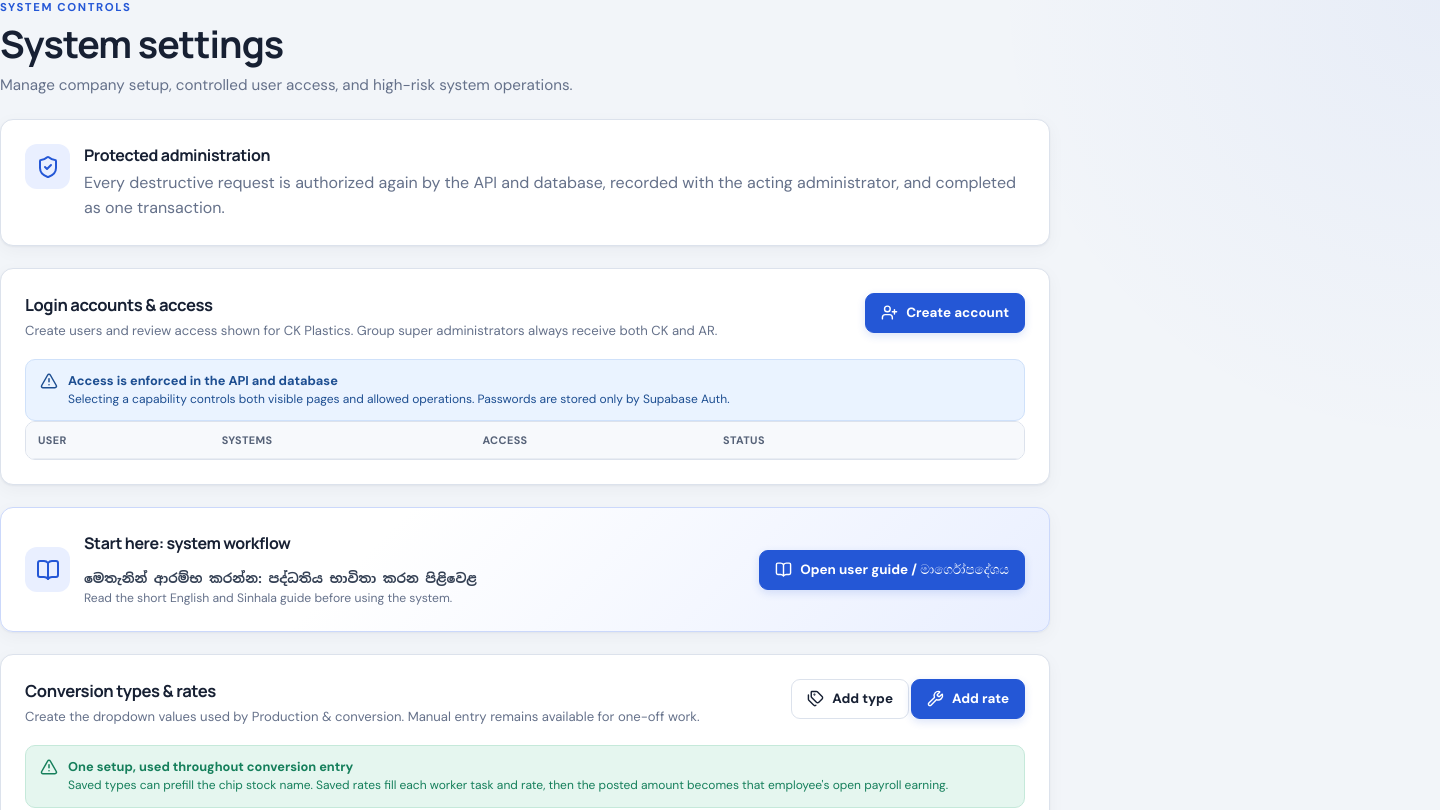
super-admin settings › validates account details and keeps actionable server errors in the dialog
The width and height of the screenshot is (1440, 810).
Click the button "Create account" at (945, 313), box [865,293,1025,333]
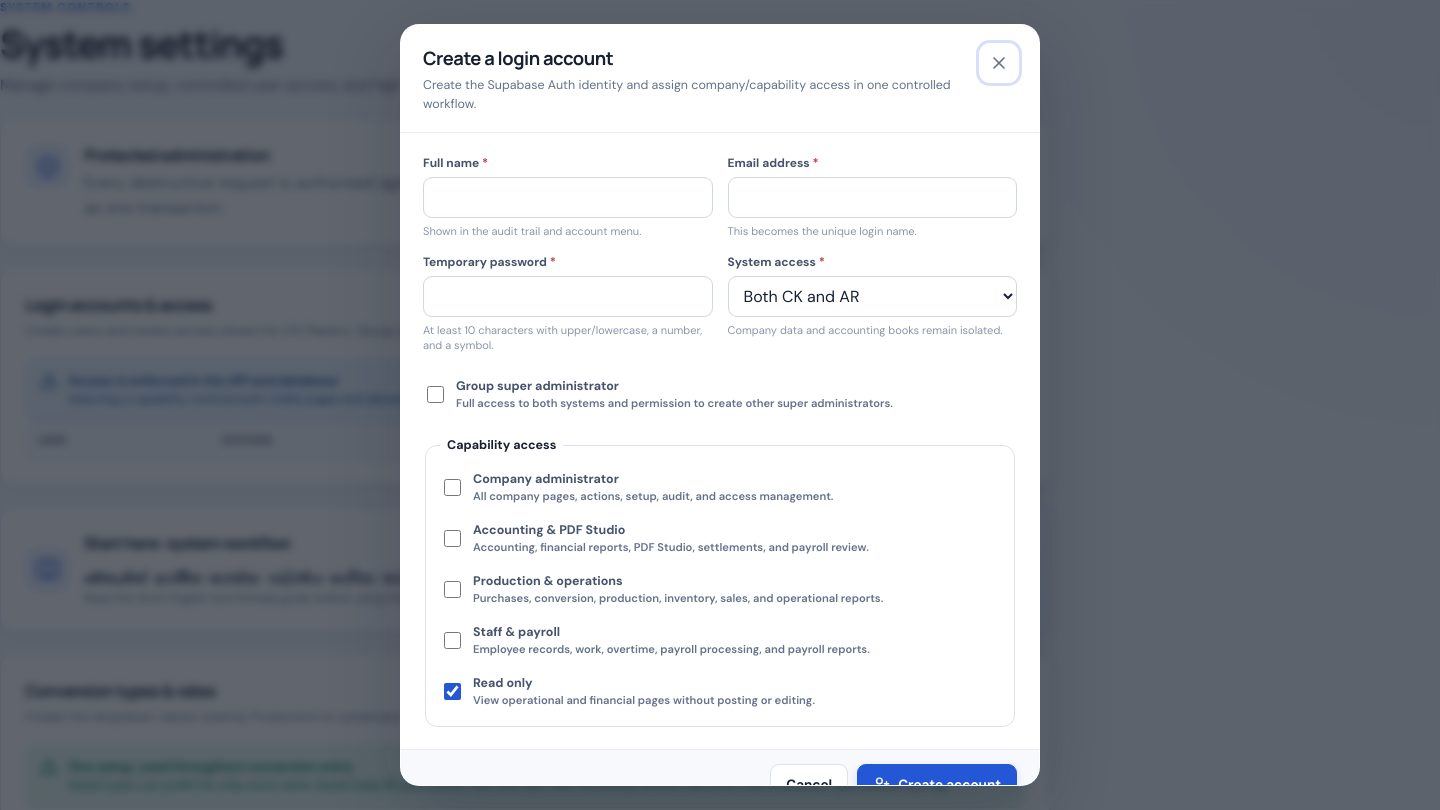
Click the button "Create account" at (937, 784), box [857,764,1017,804]
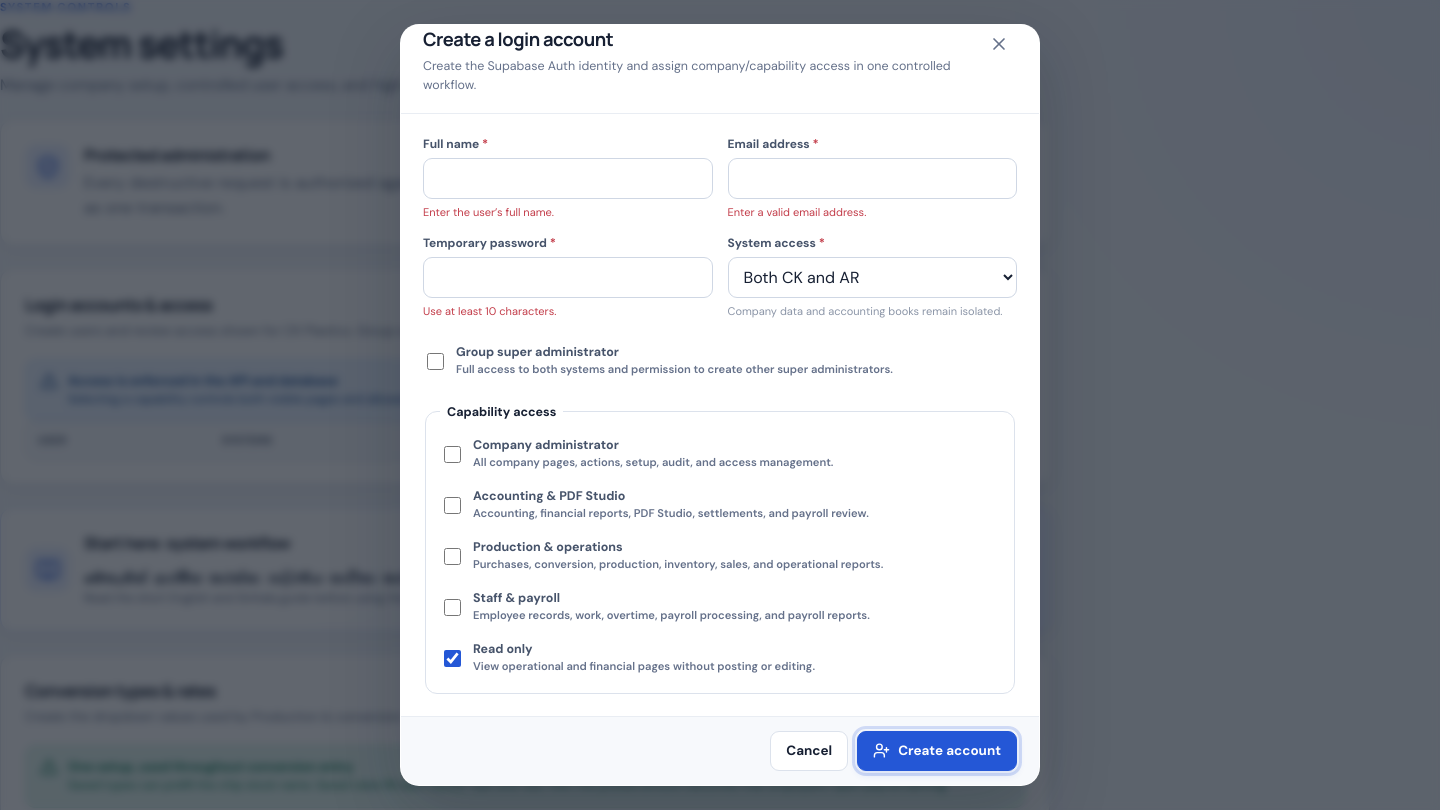
Now the text "Enter the user’s full name." is shown, box [423,205,554,219]
Now the text "Enter a valid email address." is shown, box [728,205,866,219]
Now the text "Use at least 10 characters." is shown, box [423,304,556,318]
Type "  New User  " into the field labelled "Full name * Enter the user’s full name." at (568, 178), box [423,158,712,199]
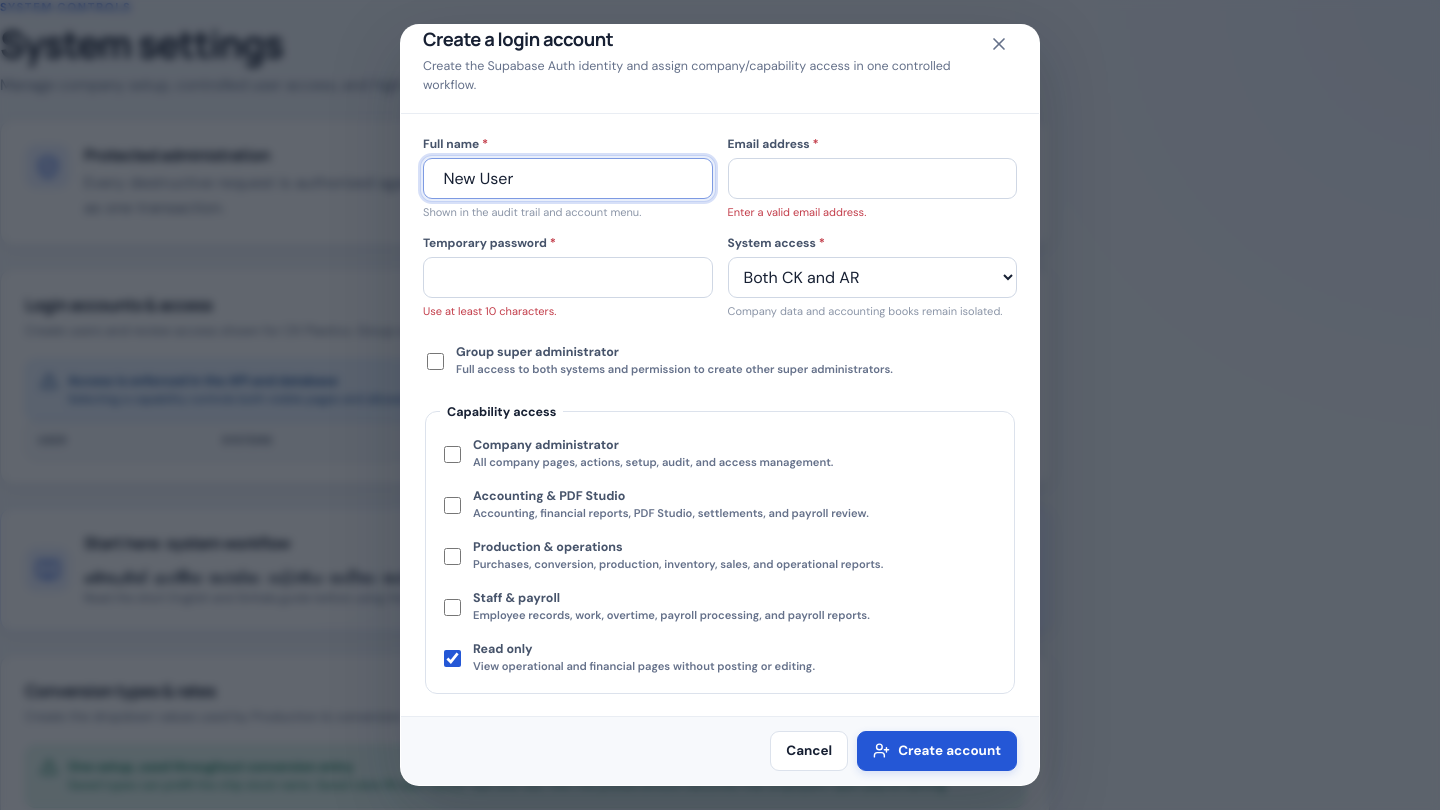
Type " New.User@Example.com " into the field labelled "Email address * Enter a valid email address." at (872, 178), box [728,158,1017,199]
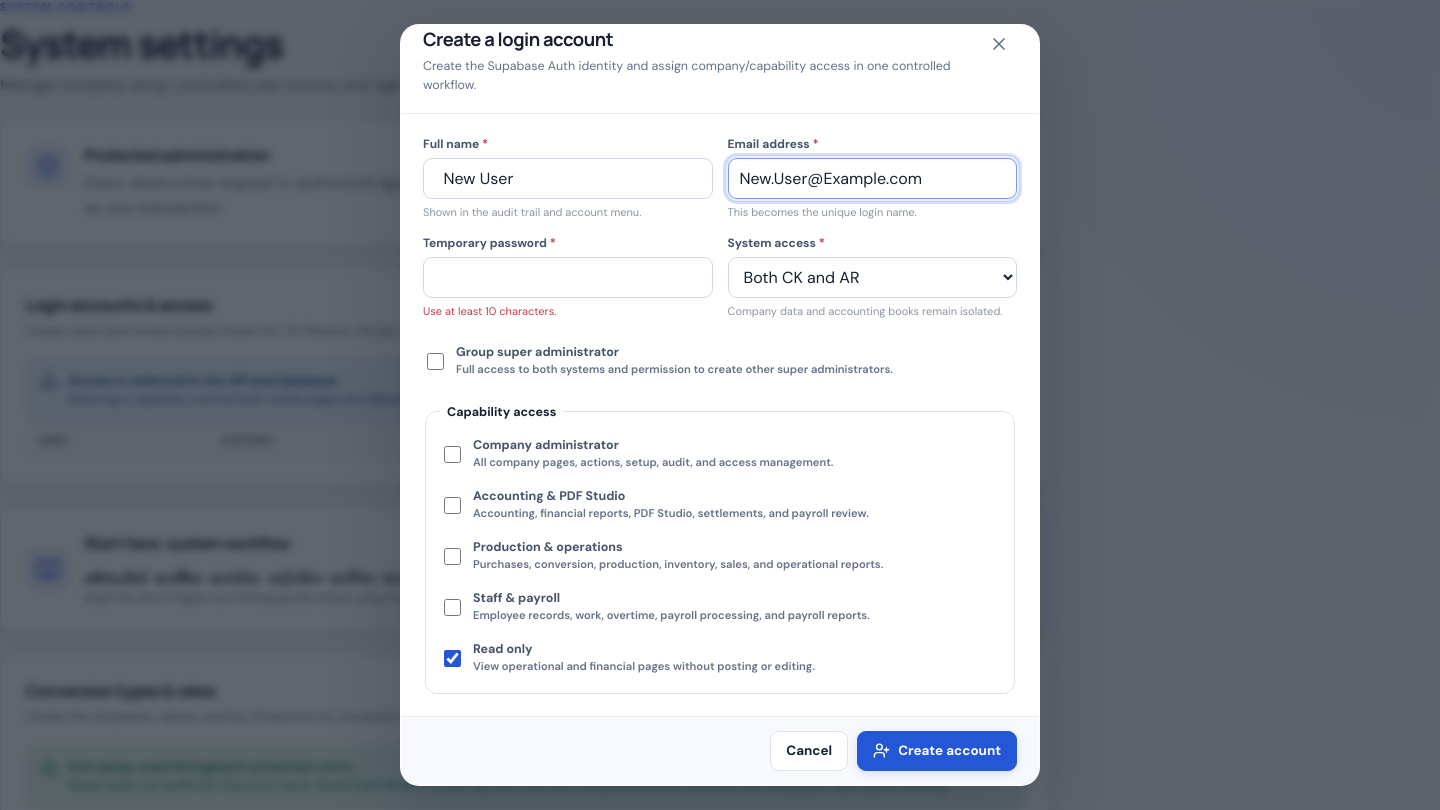
Type "Strong-password-1!" into the password field labelled "Temporary password * Use at least 10 characters." at (568, 277), box [423,257,712,298]
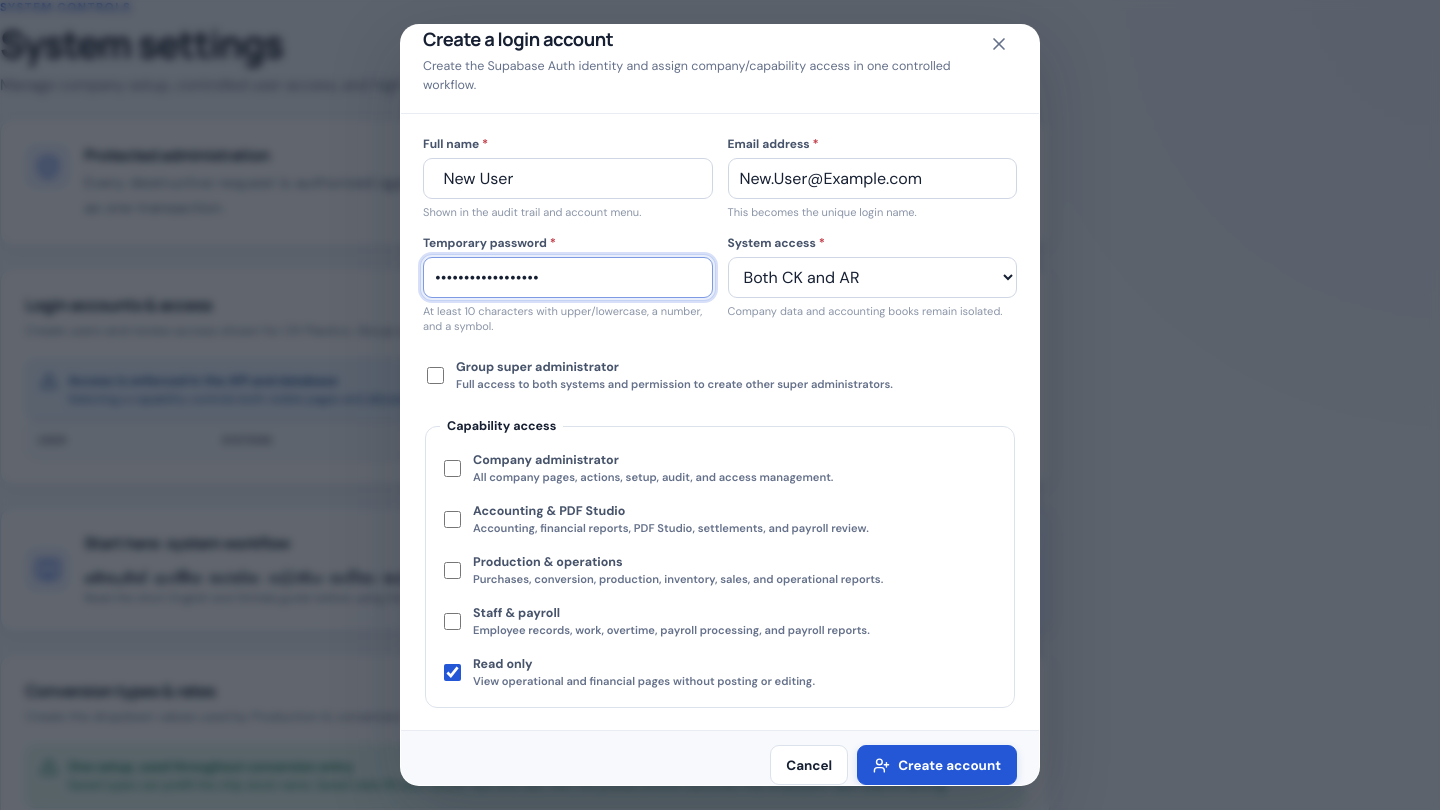
Click the button "Create account" at (937, 765), box [857,745,1017,785]
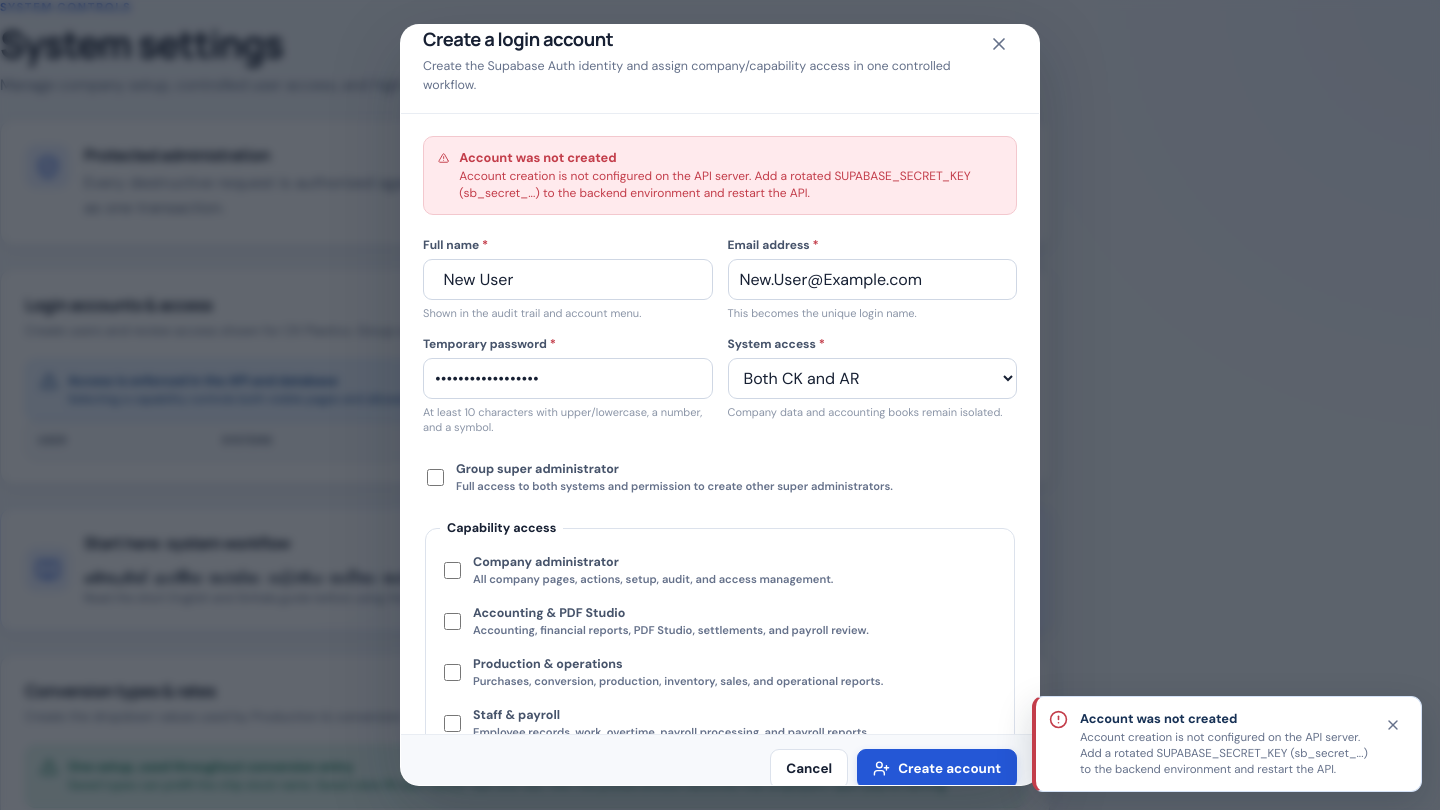
Now the text "SUPABASE_SECRET_KEY" below "Create a login account" is shown, box [459,168,971,201]
